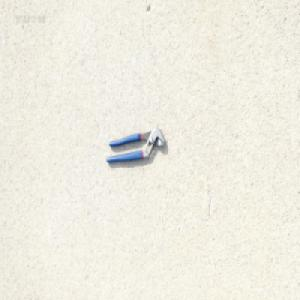Pliers: (105, 125, 165, 163)
